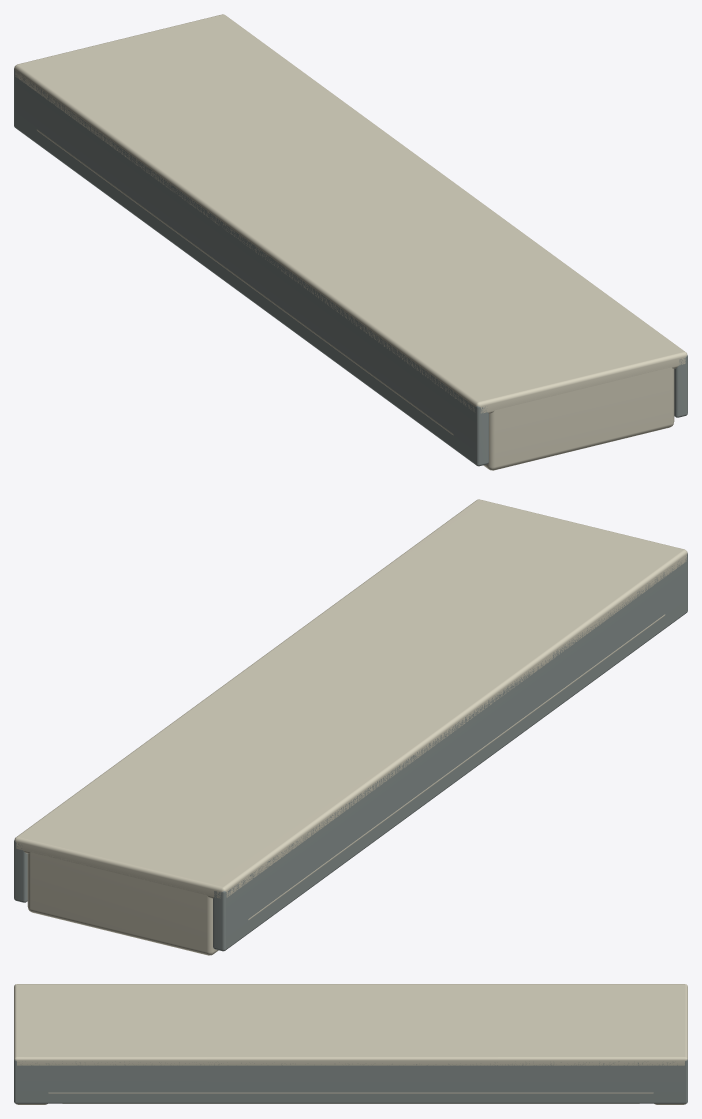
Rendered from V10_TwinFluorescent.fbx.
3 renders of one model, top to bottom at view 1: azimuth 30°, elevation 25°; view 2: azimuth 150°, elevation 25°; view 3: azimuth 270°, elevation 25°, orthographic. The views are drawn at different scales.
Parts seen in each view (by area): view 1: V10_TwinFluorescent_CH09_Cream, V10_TwinFluorescent_CH09_Steel; view 2: V10_TwinFluorescent_CH09_Cream, V10_TwinFluorescent_CH09_Steel; view 3: V10_TwinFluorescent_CH09_Cream, V10_TwinFluorescent_CH09_Steel, V10_TwinFluorescent_CH09_WarmDiffuser.
Boxes of the visible parts, x1,y1,x2,y2 form: V10_TwinFluorescent_CH09_Cream: (14,14,687,470); V10_TwinFluorescent_CH09_Steel: (14,68,687,466); V10_TwinFluorescent_CH09_Cream: (14,499,687,955); V10_TwinFluorescent_CH09_Steel: (14,553,687,951); V10_TwinFluorescent_CH09_Cream: (14,984,687,1104); V10_TwinFluorescent_CH09_Steel: (14,1059,687,1103); V10_TwinFluorescent_CH09_WarmDiffuser: (62,1103,639,1103).
Bounding box in the file's own units: 25.04 × 10 × 95.
